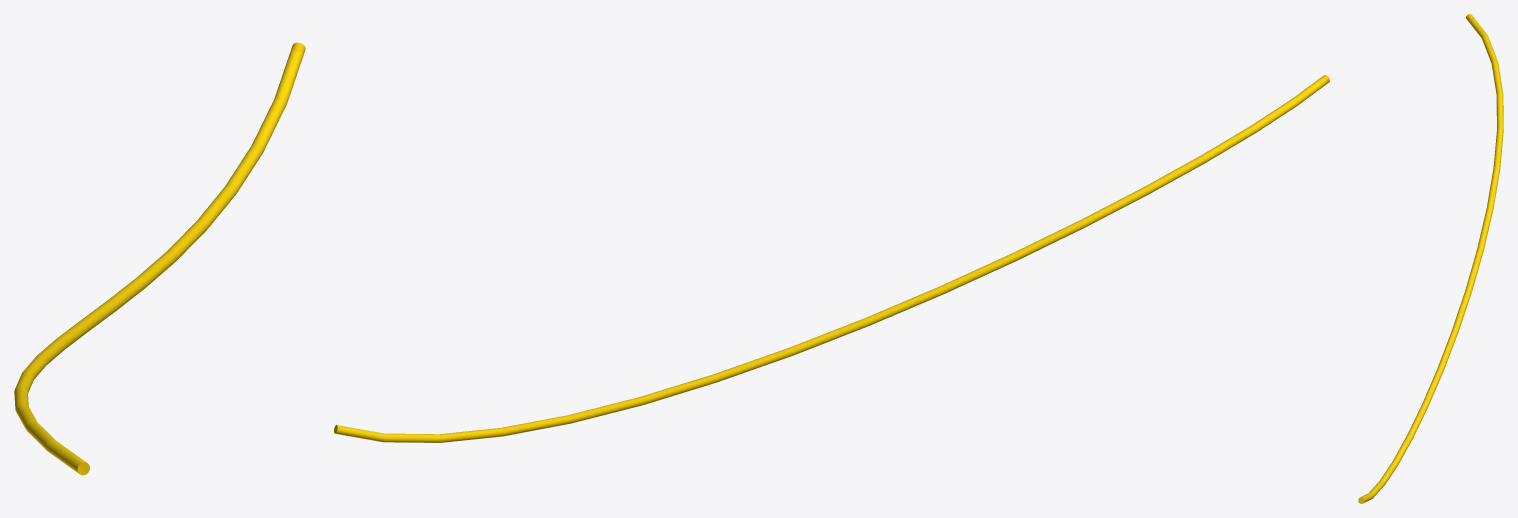
The model's file is Event_421115418_track_126.fbx.
3 views of the same model, side by side, from view 1: azimuth 90°, elevation 25°; view 2: azimuth 210°, elevation 25°; view 3: azimuth 270°, elevation 25° (orthographic). The views are drawn at different scales.
Parts seen in each view (by area): view 1: Model; view 2: Model; view 3: Model.
Part boxes in pixels (left/top/right/bottom): Model: left=14, top=42, right=305, bottom=475; Model: left=334, top=75, right=1329, bottom=442; Model: left=1358, top=14, right=1503, bottom=503.
Bounding box in the file's own units: 4.83 × 1.03 × 0.8531.
